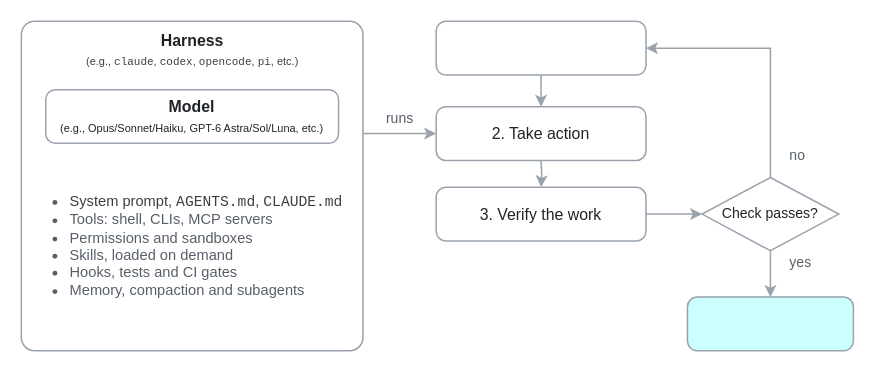
Image size: 876x373. Some labels were removed from this diagram. Each missing label, with the centre of its shape:
"1. Gather context" goes at (x=540, y=47).
"Output" goes at (x=770, y=323).
